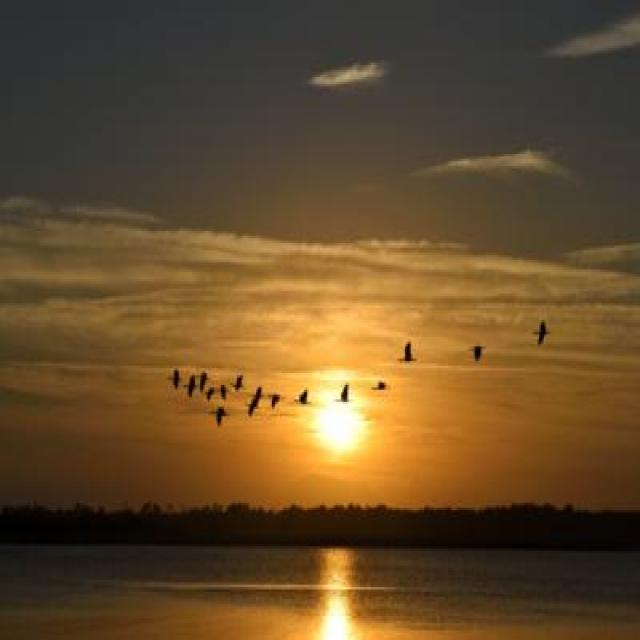birds: (394, 336, 419, 369), (530, 318, 552, 355), (291, 384, 314, 410), (210, 405, 232, 429), (466, 340, 486, 366), (247, 386, 262, 420), (334, 380, 351, 409), (371, 375, 392, 396), (168, 366, 184, 392), (183, 372, 199, 398), (268, 390, 282, 413), (232, 373, 246, 395), (198, 368, 210, 392), (204, 384, 218, 402), (219, 379, 228, 404)
